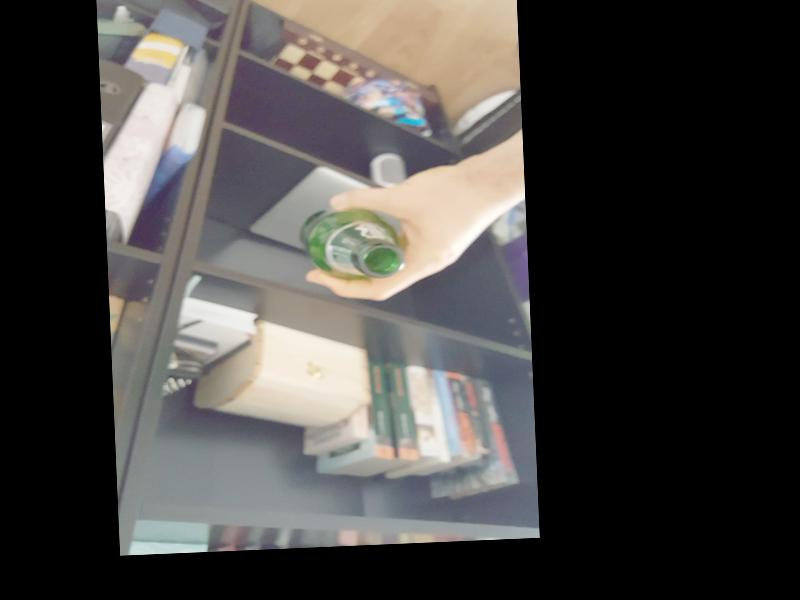Beer: (299, 202, 406, 280)
